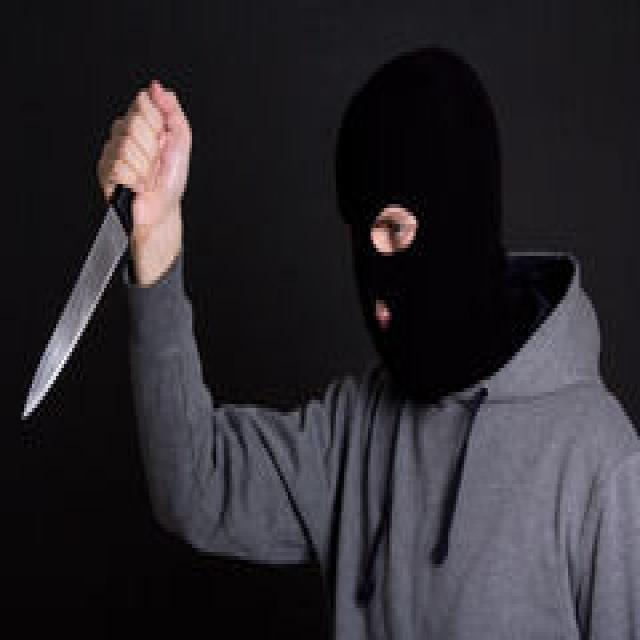knife: (19, 187, 137, 431)
